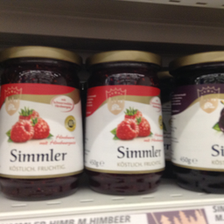jam: (1, 45, 85, 202), (85, 50, 166, 197), (169, 51, 224, 194)
